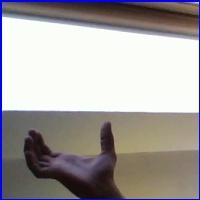space: (17, 121, 131, 195)
